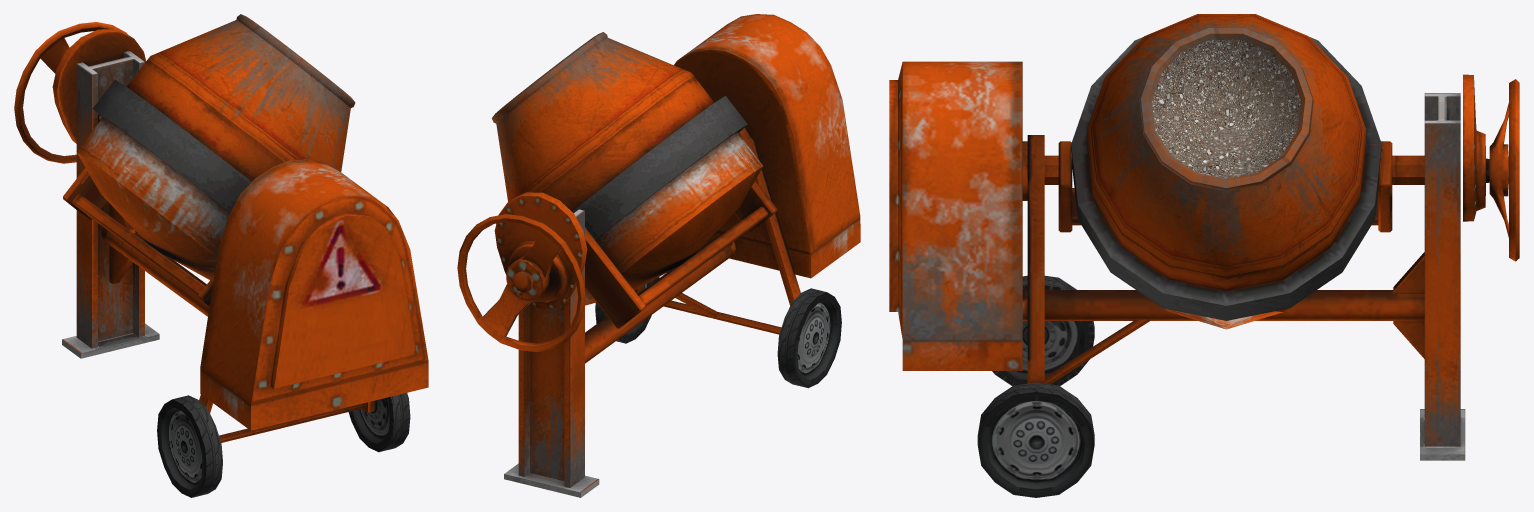
The model's file is MixerConcrete.FBX.
The picture shows the model from 3 angles, left to right: view 1: azimuth 30°, elevation 25°; view 2: azimuth 150°, elevation 25°; view 3: azimuth 270°, elevation 25°; orthographic projection. The views are drawn at different scales.
Visible parts, largest first — view 1: MixerConcrete, MixerConcreteGravel; view 2: MixerConcrete, MixerConcreteGravel; view 3: MixerConcrete, MixerConcreteGravel.
Part boxes in pixels (box(x1,y1,x2,y2)): MixerConcrete: box(14, 22, 428, 497); MixerConcreteGravel: box(63, 14, 355, 306); MixerConcrete: box(457, 14, 860, 497); MixerConcreteGravel: box(492, 32, 777, 328); MixerConcrete: box(889, 61, 1519, 497); MixerConcreteGravel: box(1022, 14, 1424, 329).
Size of the model in its own units: 59.96 by 87.64 by 114.
